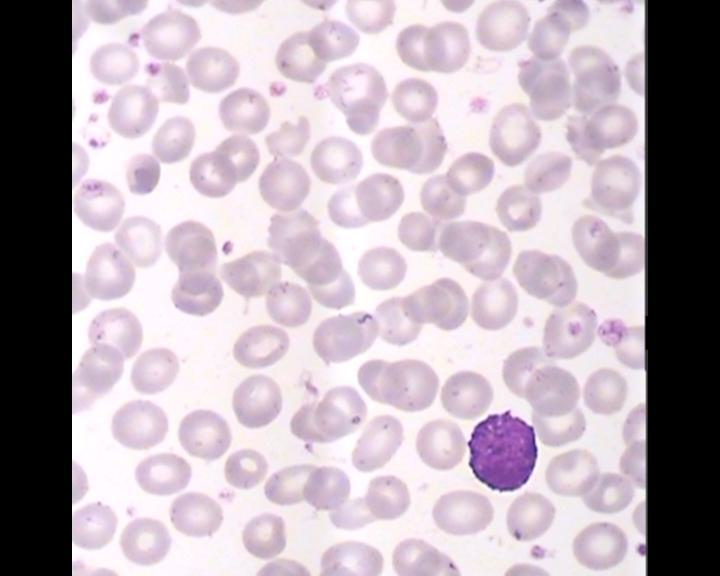baso: (459, 408, 542, 497)
